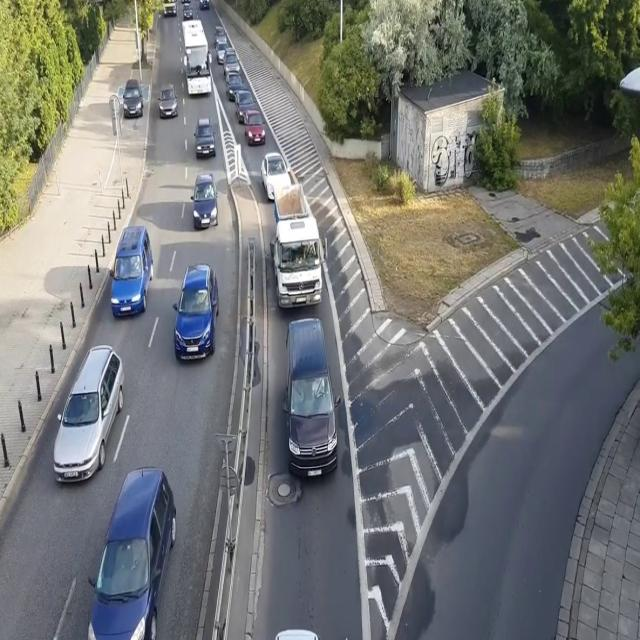bus: (182, 19, 212, 99)
car: (84, 468, 178, 640), (51, 342, 127, 492), (172, 262, 222, 364), (190, 170, 220, 228), (262, 152, 292, 200), (192, 114, 218, 161), (257, 624, 331, 640), (158, 82, 180, 120), (122, 79, 143, 117), (245, 108, 266, 145), (235, 92, 255, 124), (224, 70, 242, 100), (216, 42, 232, 64), (224, 50, 239, 72), (214, 26, 228, 45), (182, 3, 194, 22), (180, 0, 192, 5)
truck: (267, 182, 330, 320), (159, 0, 178, 17)
van: (283, 320, 342, 474), (108, 225, 156, 318), (197, 0, 210, 11)
